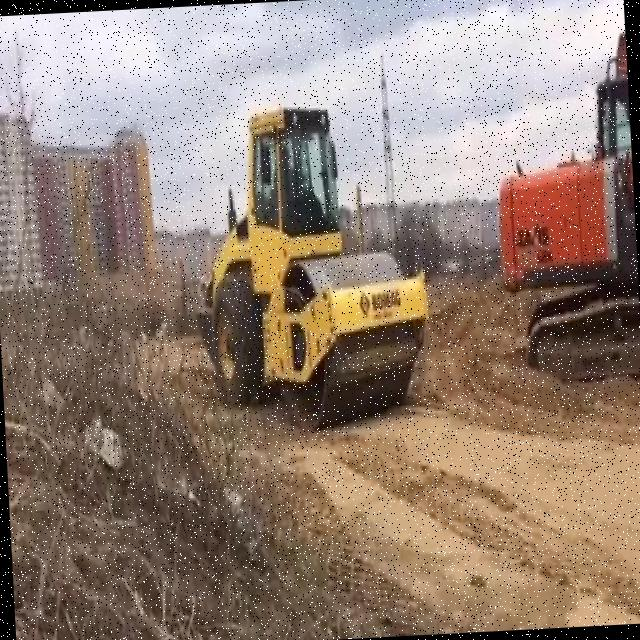Excavator: (490, 19, 640, 320)
Roller: (183, 97, 437, 440)
